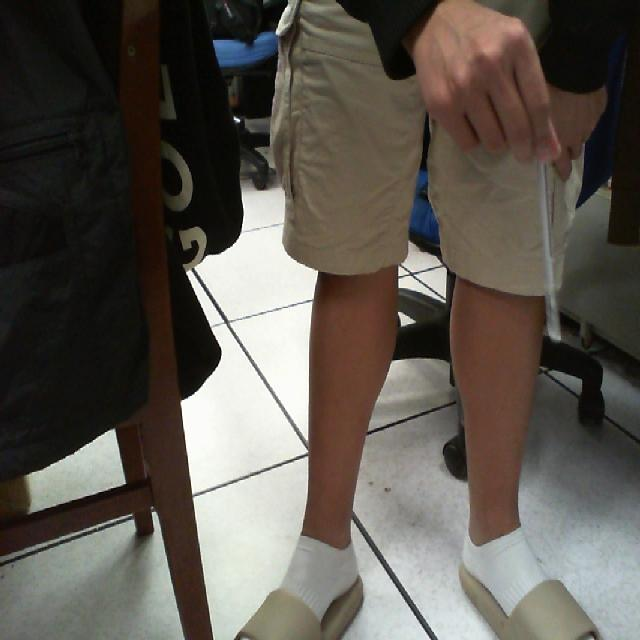Pen: (503, 112, 592, 394)
